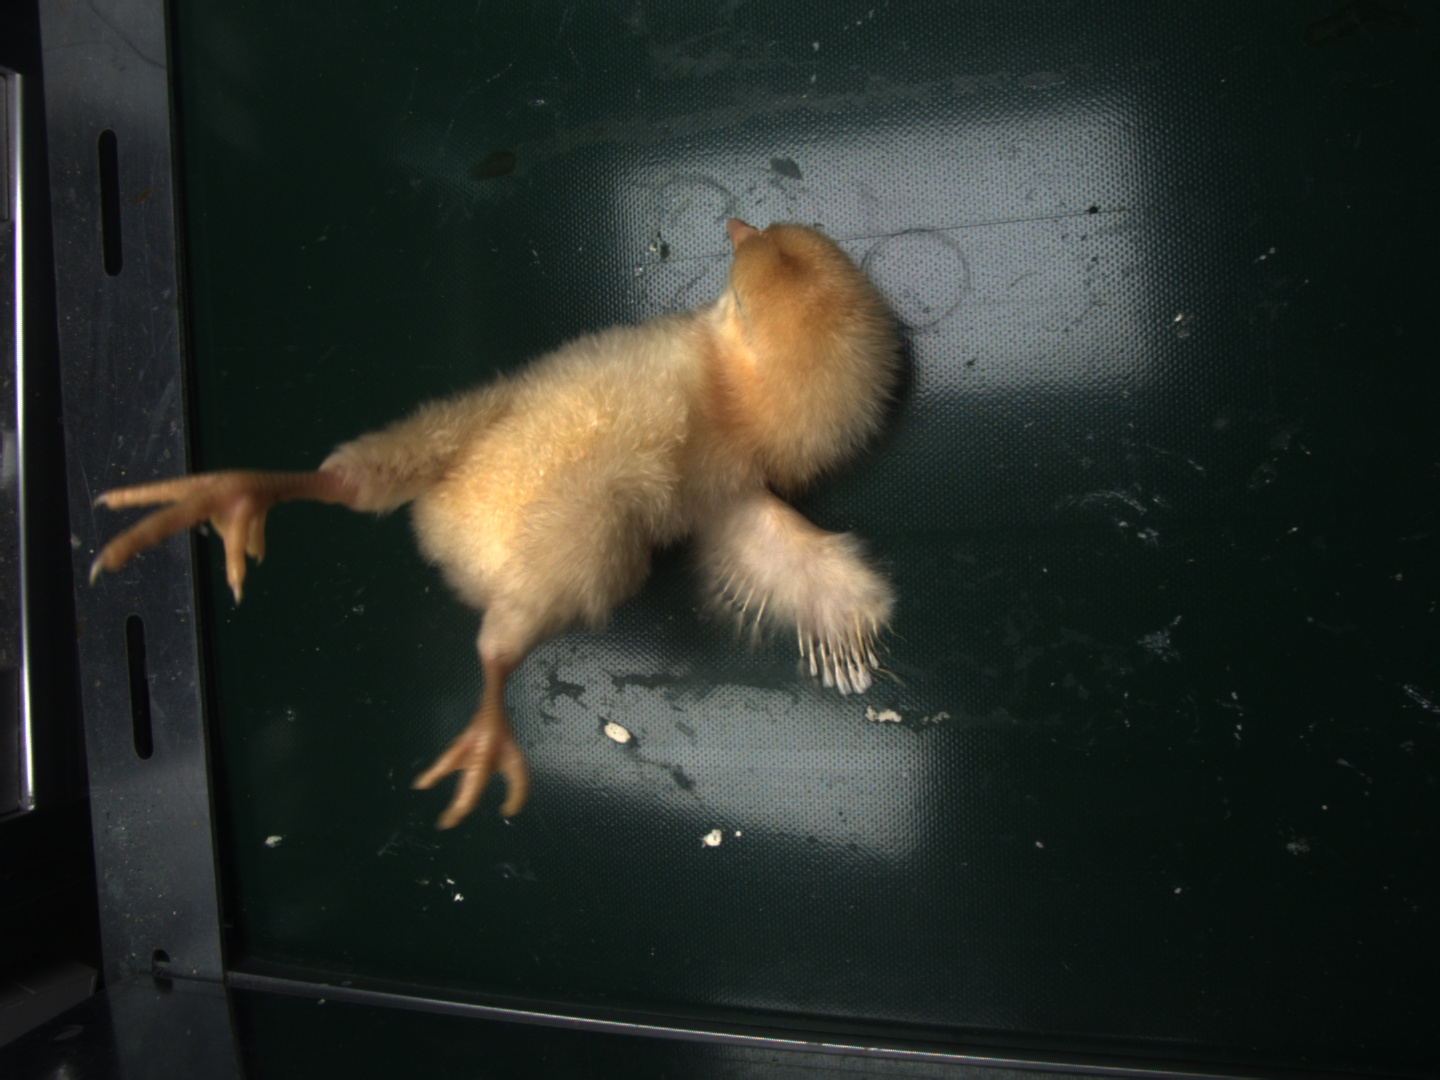female: (801, 625, 883, 695)
